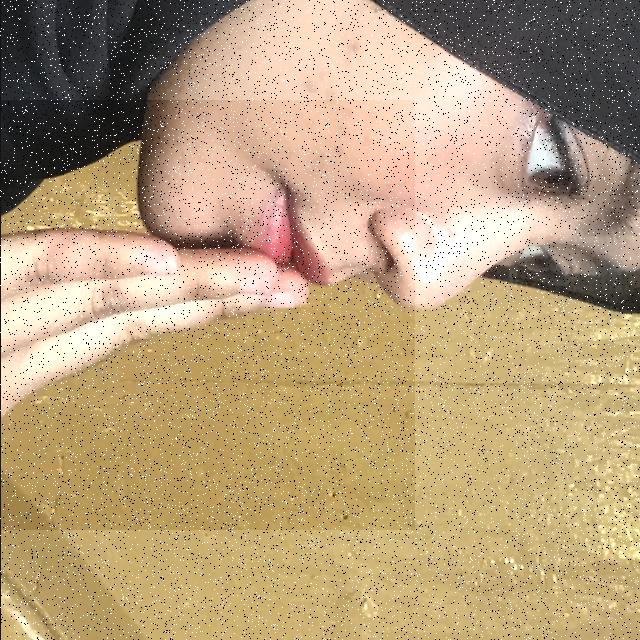ganteng: (0, 100, 414, 530)
